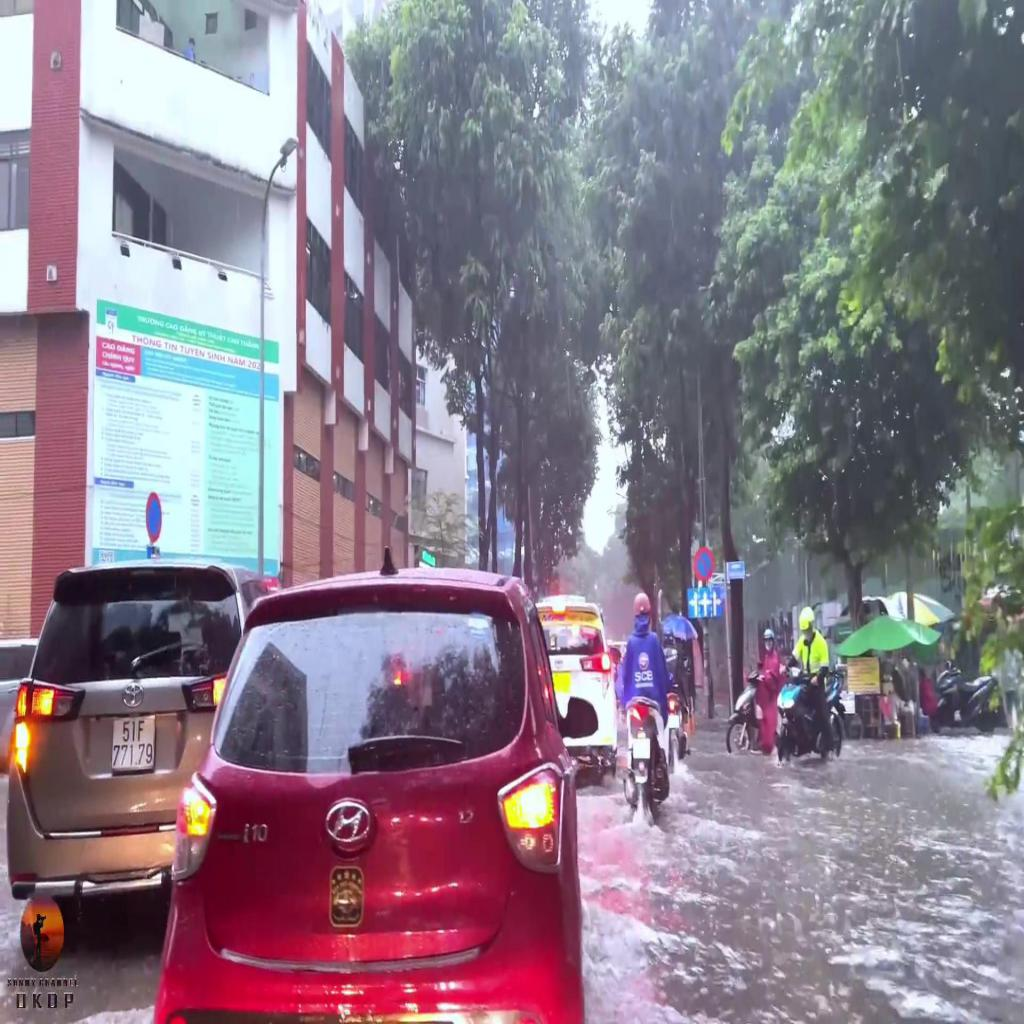cam_do_xe: (692, 547, 715, 583)
huong_di_tren_moi_lan_duong_theo_vach_ke_duong: (688, 586, 724, 619)
